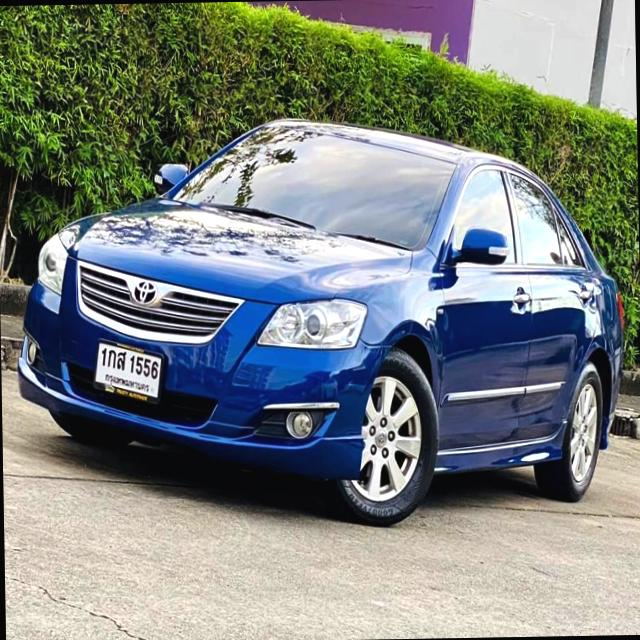license_plate: (89, 332, 170, 411)
